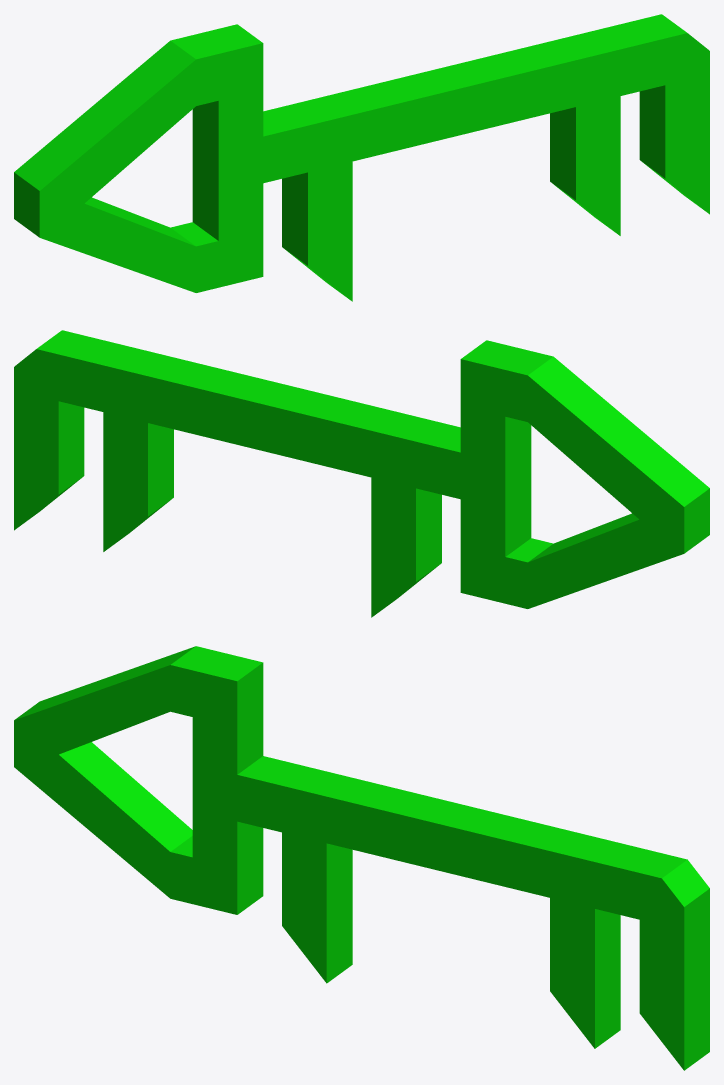
File: Items.fbx_Key_6.fbx
The picture shows the model from 3 angles, top to bottom: view 1: azimuth 30°, elevation 25°; view 2: azimuth 150°, elevation 25°; view 3: azimuth 330°, elevation 25°; orthographic projection.
Visible parts, largest first — view 1: Key 6; view 2: Key 6; view 3: Key 6.
Part boxes in pixels (bbox=[...]): Key 6: bbox=[14, 14, 709, 301]; Key 6: bbox=[14, 330, 709, 617]; Key 6: bbox=[14, 646, 709, 1070].
Bounding box in the file's own units: 30 × 12 × 2.
